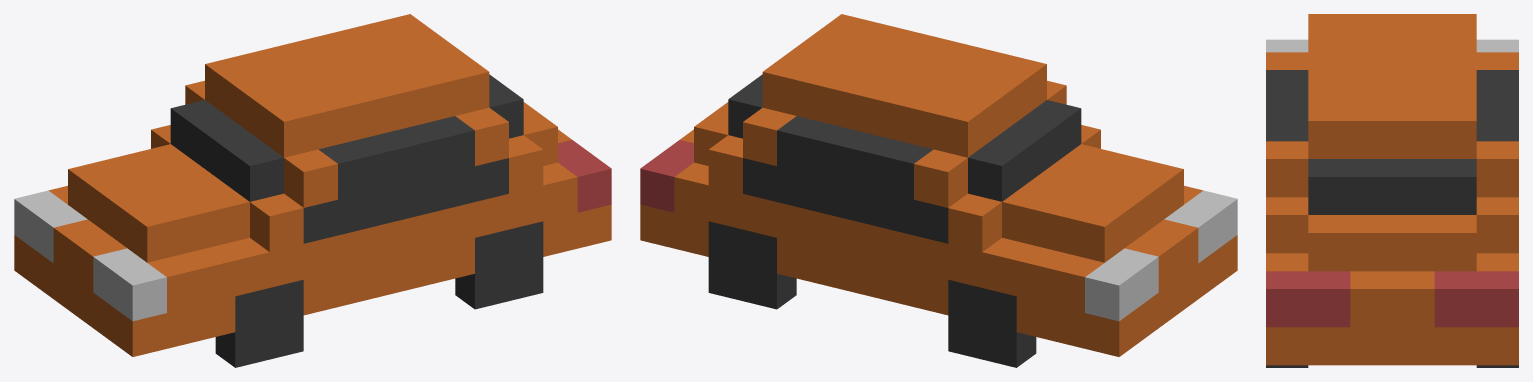
File: car-v2-orange.gltf
The picture shows the model from 3 angles, left to right: view 1: azimuth 30°, elevation 25°; view 2: azimuth 150°, elevation 25°; view 3: azimuth 270°, elevation 25°; orthographic projection. The views are drawn at different scales.
Parts seen in each view (by area): view 1: model, wheels; view 2: model, wheels; view 3: model, wheels.
Boxes of the visible parts, <box> form: model: <box>14,14,611,356</box>; wheels: <box>215,221,543,367</box>; model: <box>640,14,1237,356</box>; wheels: <box>708,221,1036,367</box>; model: <box>1266,14,1518,365</box>; wheels: <box>1266,365,1518,367</box>.
Size of the model in its own units: 1.4 by 0.6 by 0.6.
Materials: 2 (2 with a texture image).
